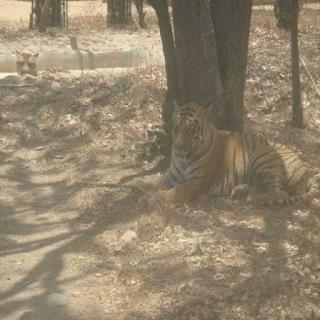Tiger: (148, 91, 320, 218)
